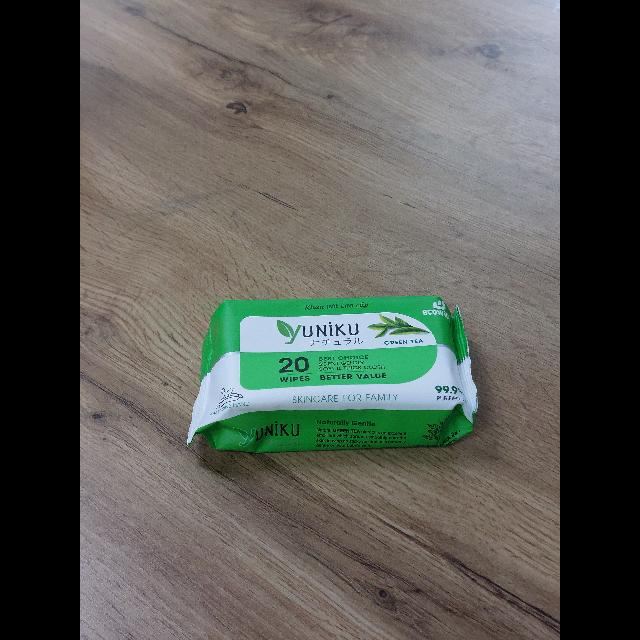khan_giay: (188, 296, 478, 452)
